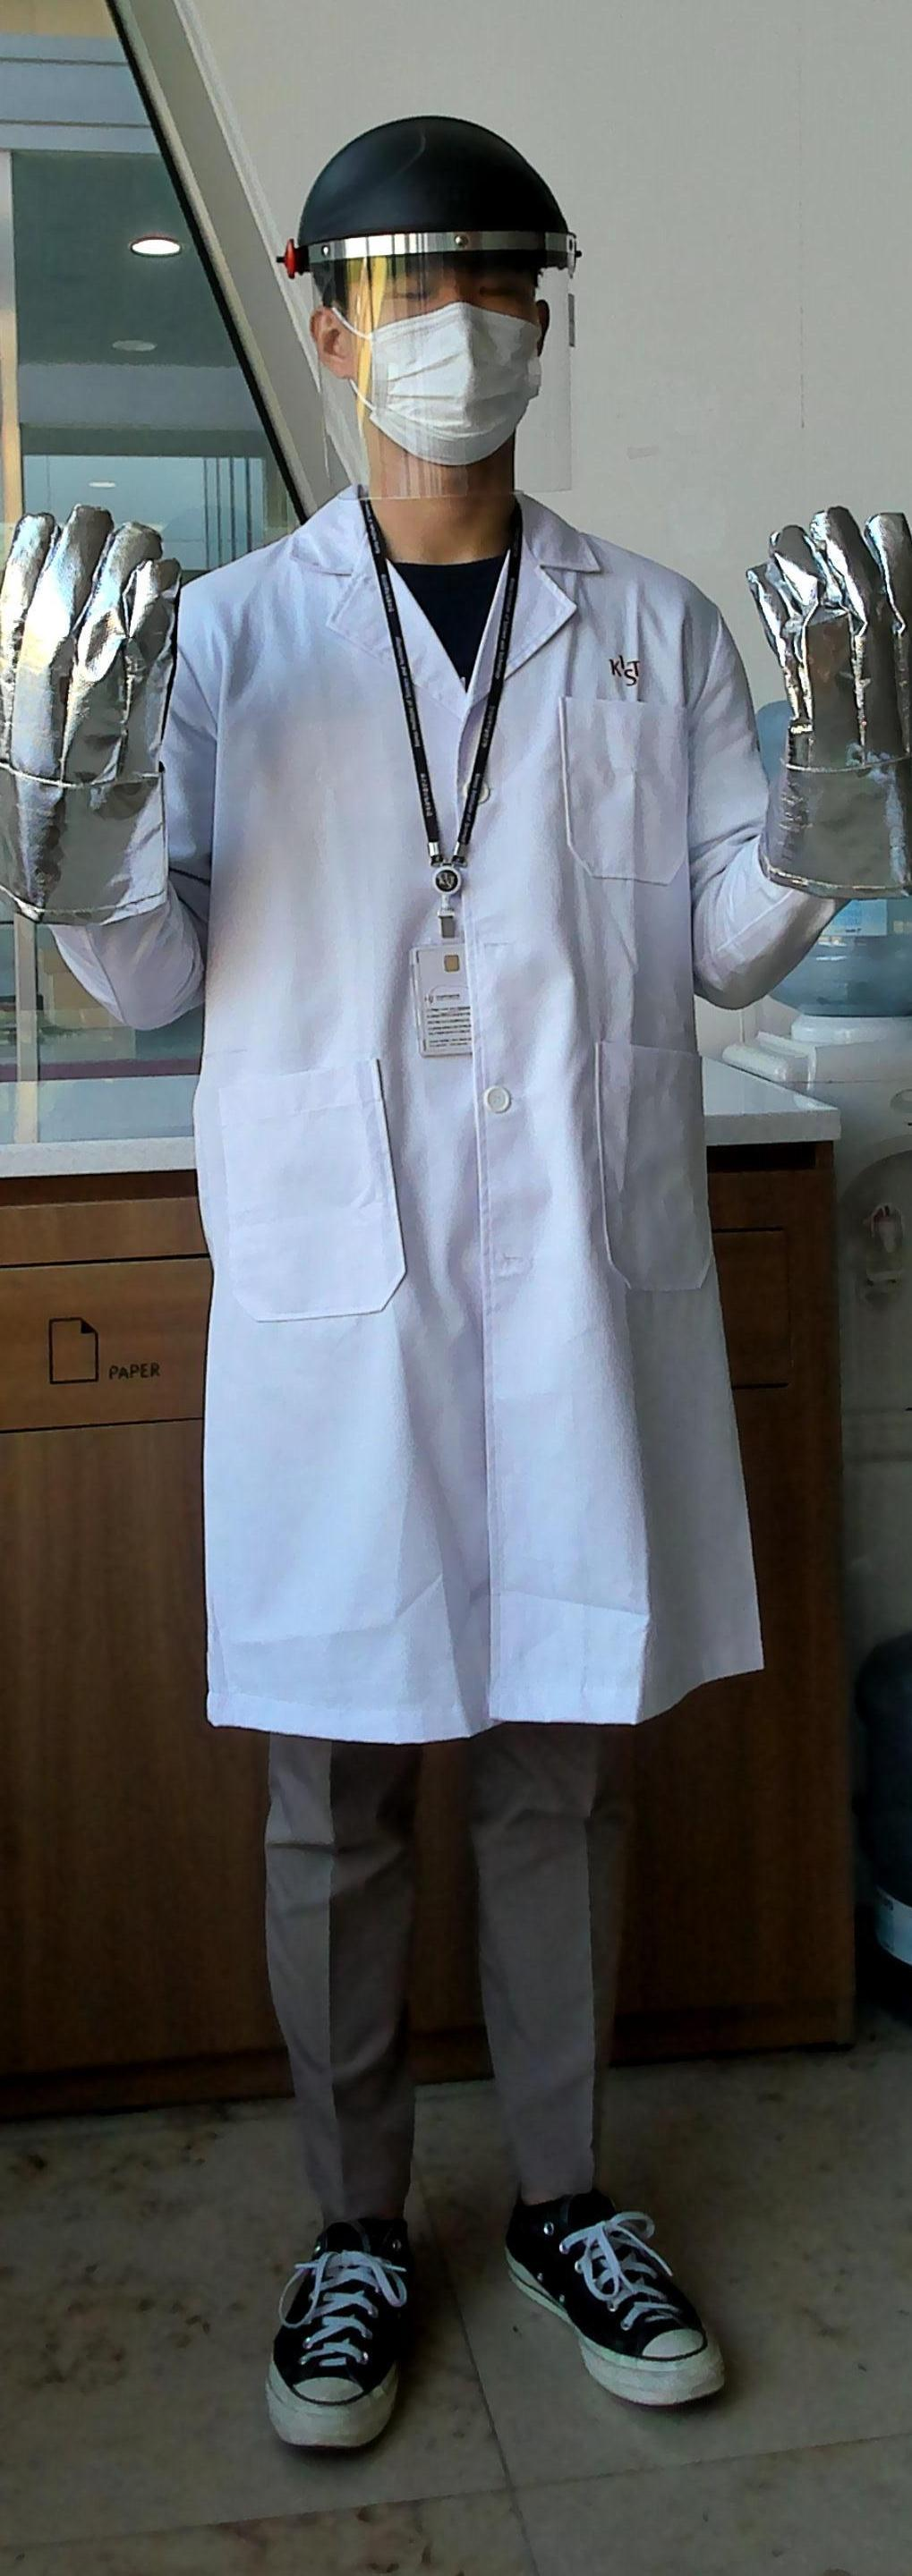lab_coat: (176, 511, 744, 1709)
